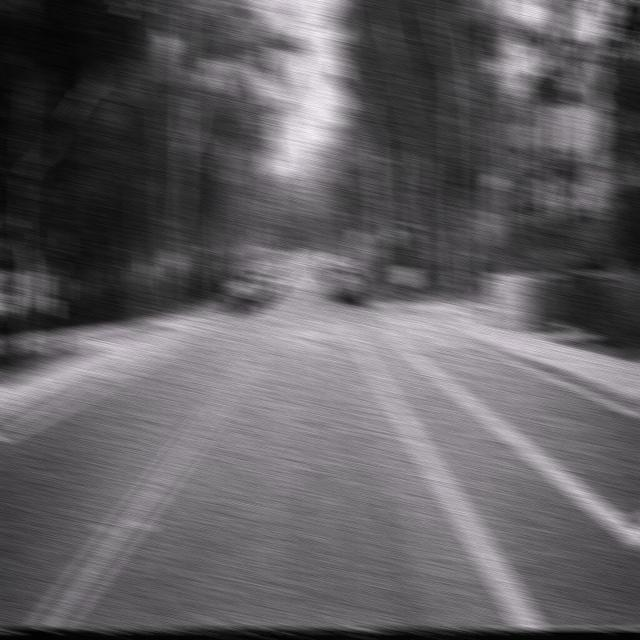stop_sign: (477, 209, 501, 245)
